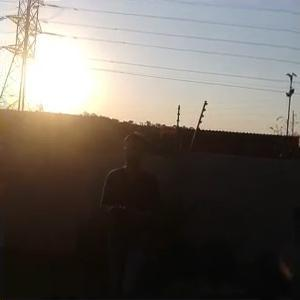follow: (96, 124, 164, 298)
